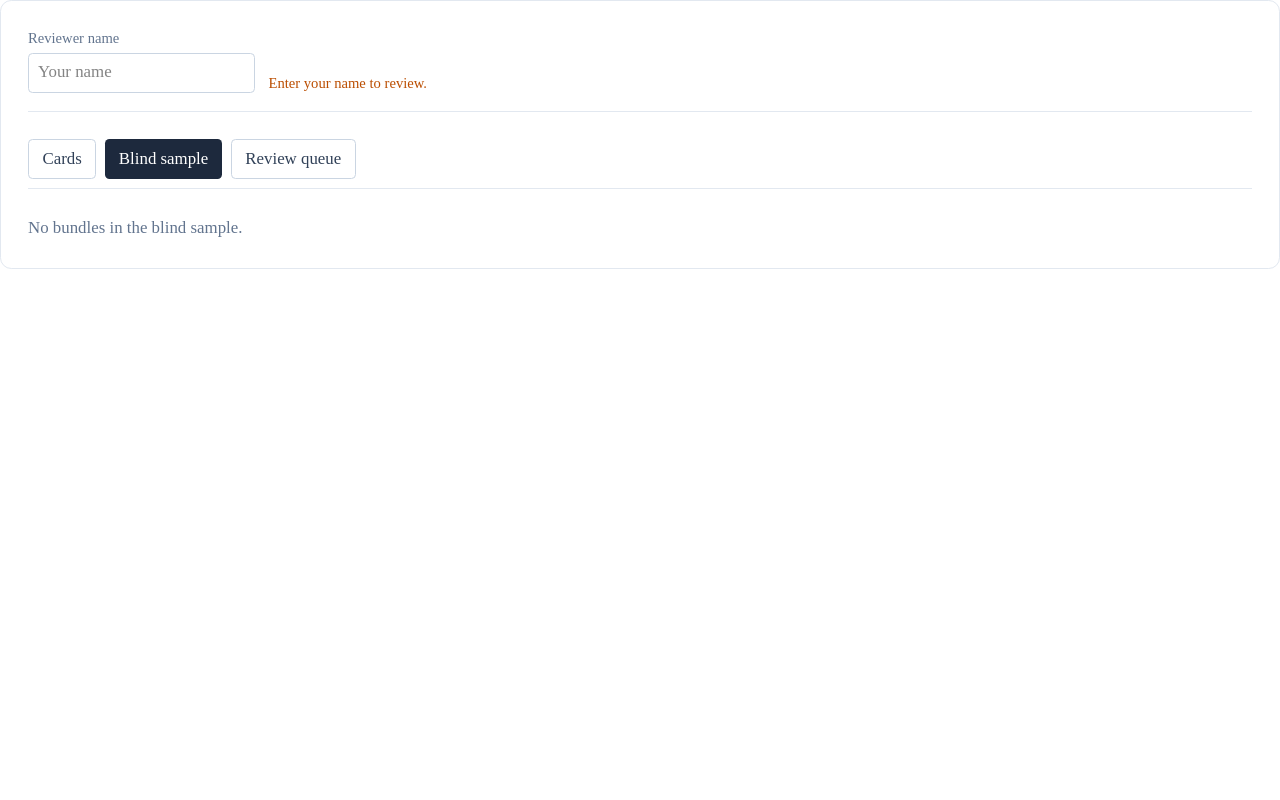
BundlesPanel › queue shows core items highest Importance first, shows the Importance, and says related/fringe do not change weights
The width and height of the screenshot is (1280, 800).
Step 1. Click the button "Review queue" → (293, 159), box left=231, top=139, right=356, bottom=179
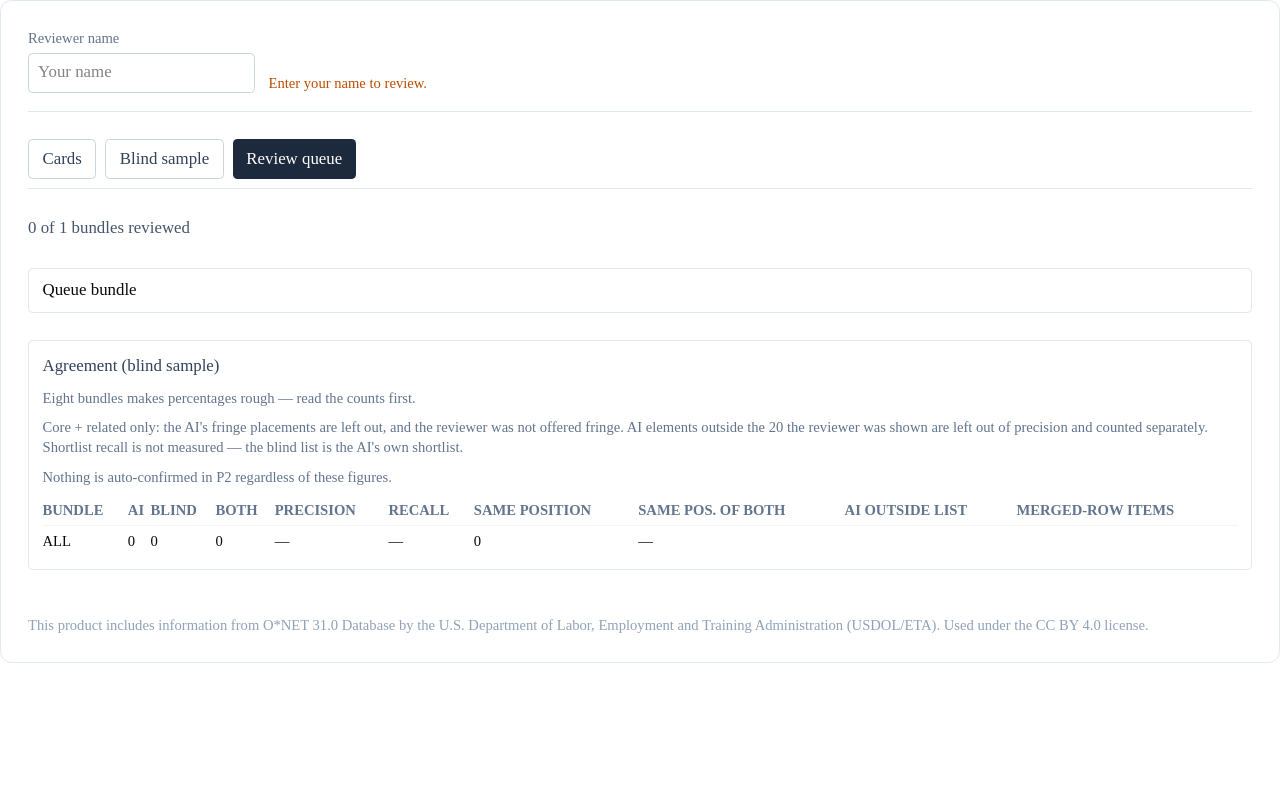
Step 2. Click the button "Queue bundle" → (90, 289), box left=29, top=269, right=1251, bottom=312
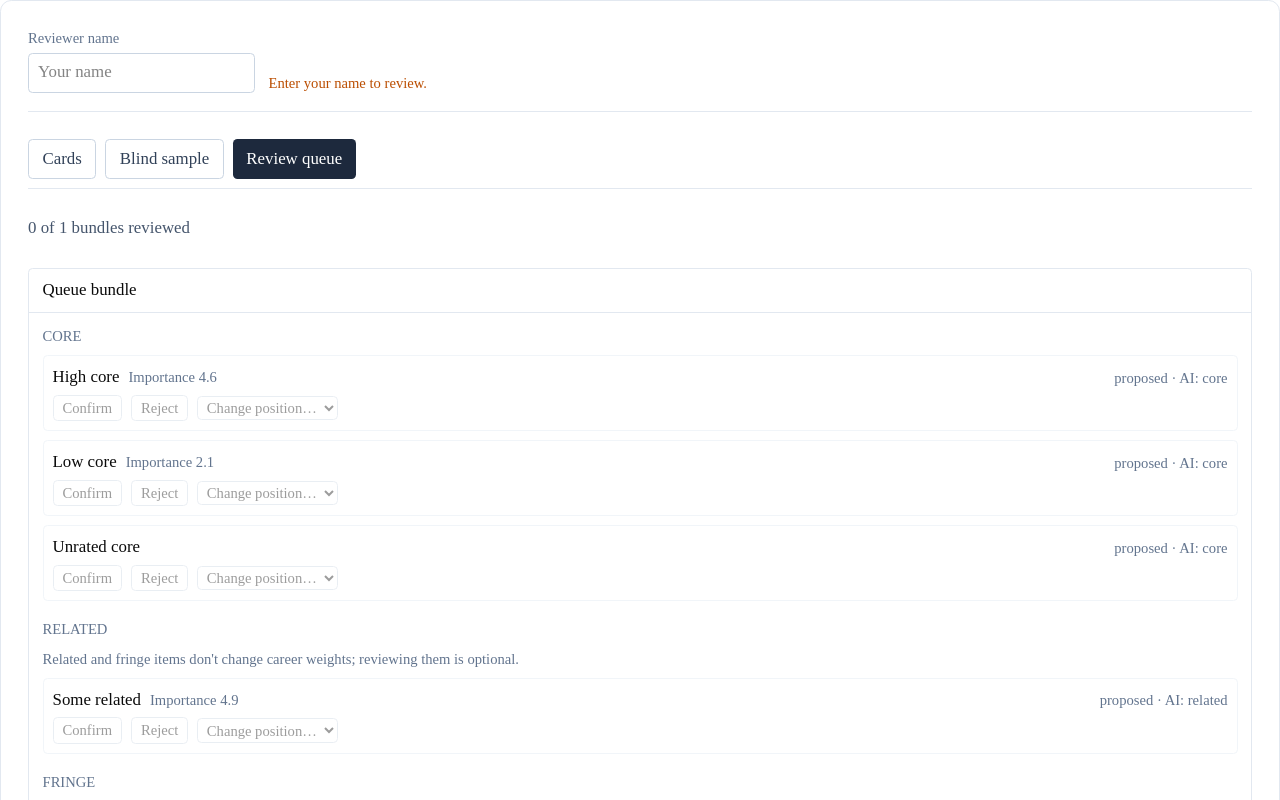
Expected: the text "High core" is shown, left=52, top=368, right=120, bottom=386
Expected: the text "Importance 4.6" is shown, left=128, top=370, right=217, bottom=386
Expected: the text "Related and fringe items don't change career weights" is shown, left=42, top=651, right=519, bottom=667
